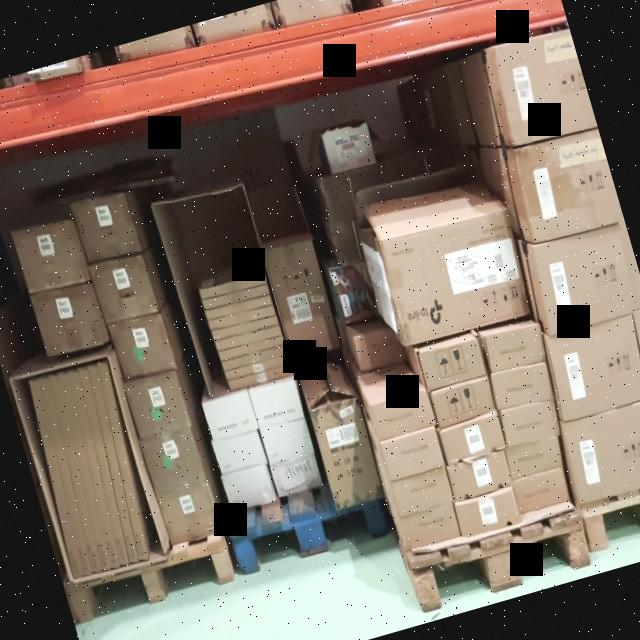box: (379, 208, 530, 344), (515, 129, 622, 243), (494, 27, 597, 144), (533, 225, 635, 335), (48, 376, 101, 572), (29, 380, 81, 577), (59, 373, 111, 569), (545, 314, 640, 421), (97, 362, 148, 559), (69, 371, 120, 568), (39, 378, 90, 574), (88, 365, 138, 563), (79, 367, 129, 565), (264, 238, 339, 358), (309, 396, 383, 510), (562, 402, 640, 503), (30, 282, 110, 355), (11, 219, 90, 291), (70, 193, 142, 262), (87, 255, 159, 324), (139, 425, 206, 493), (108, 313, 177, 379), (123, 371, 190, 438), (155, 480, 223, 546), (438, 411, 506, 465), (380, 426, 445, 482), (419, 338, 486, 392), (429, 374, 494, 428), (370, 388, 436, 440), (454, 486, 521, 536), (447, 450, 512, 501), (391, 467, 454, 517), (491, 361, 555, 410), (399, 502, 460, 550), (500, 399, 560, 447), (203, 389, 259, 439), (322, 122, 375, 173), (248, 379, 304, 427), (484, 325, 546, 368), (505, 436, 563, 481), (512, 469, 570, 513), (221, 464, 275, 511), (211, 429, 268, 473), (259, 418, 314, 463), (270, 453, 323, 497), (353, 328, 406, 370), (199, 270, 266, 300), (202, 282, 268, 310), (204, 293, 272, 320), (221, 344, 288, 371), (215, 325, 282, 351), (228, 363, 294, 389), (212, 315, 279, 340), (218, 335, 285, 360), (208, 304, 274, 329), (225, 355, 291, 379)
